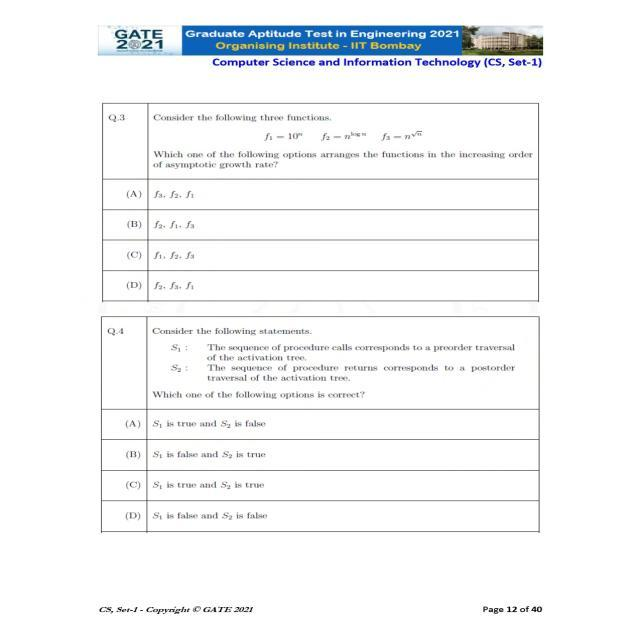Answer_Block: (51, 412, 584, 567), (51, 182, 584, 312)
Question_Answer_Block: (51, 312, 584, 567), (51, 81, 584, 312)
Question_Block: (51, 81, 584, 178), (51, 312, 584, 409)
Question_Paper_Area: (51, 81, 584, 567)
